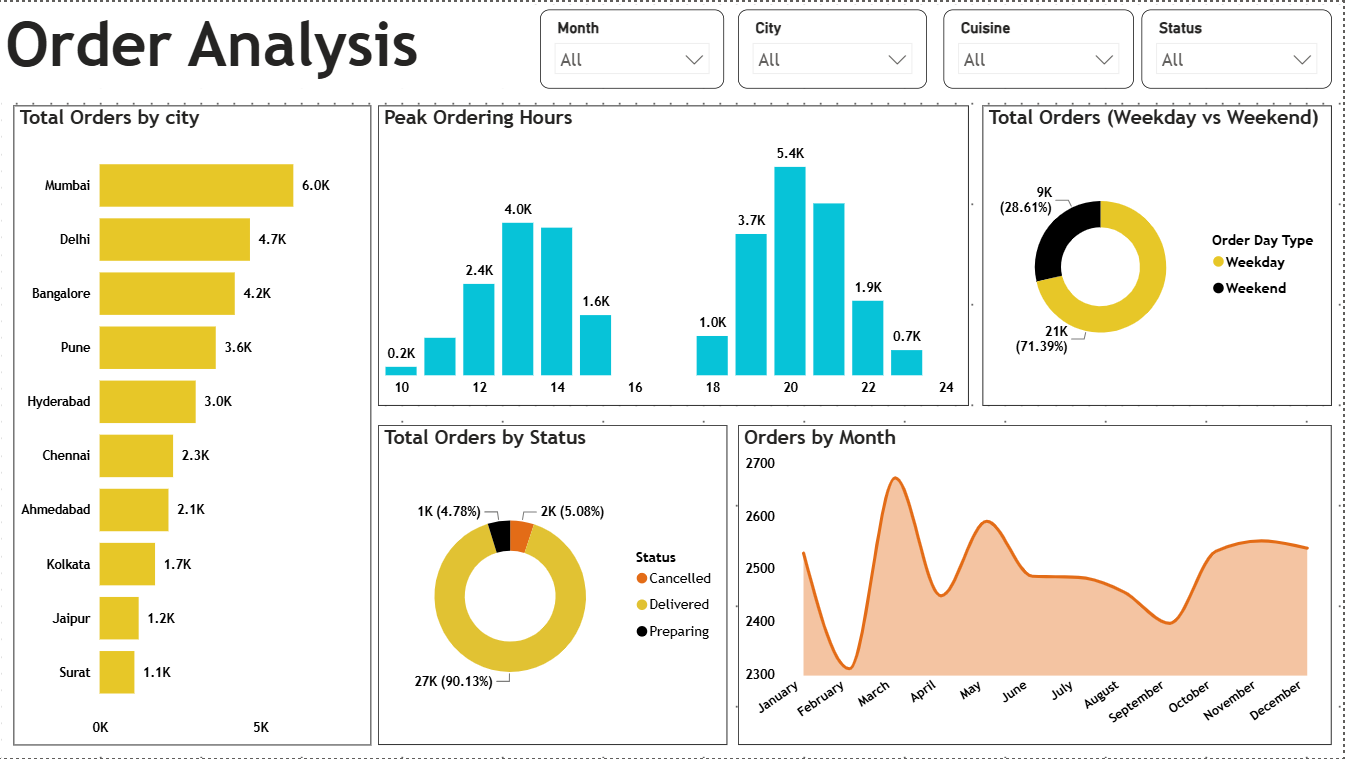

The dashboard page shown, as its layout file describes it:
{"tool":"powerbi","page":{"name":"Order Analysis","canvas":[1280,720],"ordinal":3},"visuals":[{"type":"clusteredColumnChart","title":"Peak Ordering Hours","fields":{"Category":["orders.Order Hour"],"Y":["Shared Measures.Total Orders"]},"box":[359.4,98.4,562.5,285.9],"z":0},{"type":"lineChart","title":"Orders by Month","fields":{"Category":["orders.order_time.Variation.Date Hierarchy.Month"],"Y":["Shared Measures.Total Orders"]},"box":[703.1,403.1,565.6,304.7],"z":1000},{"type":"barChart","fields":{"Category":["restaurants.city"],"Y":["Shared Measures.Total Orders"]},"box":[12.5,98.4,340.6,609.4],"z":2000},{"type":"donutChart","title":"Total Orders (Weekday vs Weekend)","fields":{"Category":["orders.Order Day Type"],"Y":["Shared Measures.Total Orders"]},"box":[935.9,98.4,332.8,285.9],"z":4000},{"type":"slicer","fields":{"Values":["orders.order_time.Variation.Date Hierarchy.Month"]},"box":[514.1,7.8,175,75],"z":5000},{"type":"slicer","fields":{"Values":["customers.city"]},"box":[703.1,7.8,179.7,75],"z":6000},{"type":"slicer","fields":{"Values":["restaurants.cuisine"]},"box":[898.4,7.8,181.2,75],"z":7000},{"type":"slicer","fields":{"Values":["orders.status"]},"box":[1087.5,7.8,181.2,75],"z":8000},{"type":"textbox","box":[0,0,496.9,82.8],"z":9000},{"type":"donutChart","title":"Total Orders by Status","fields":{"Y":["Shared Measures.Total Orders"],"Series":["orders.status"]},"box":[359.4,403.1,332.8,304.7],"z":9001}]}

Visuals, with their boxes in screenshot pixels (x1, y1, x2, y2), scaled from the page's 1280x720 canvas onto the 1345x759 screenshot:
"Peak Ordering Hours" clusteredColumnChart: x1=378 y1=104 x2=969 y2=405
"Orders by Month" lineChart: x1=739 y1=425 x2=1333 y2=746
barChart - restaurants.city x Shared Measures.Total Orders: x1=13 y1=104 x2=371 y2=746
"Total Orders (Weekday vs Weekend)" donutChart: x1=983 y1=104 x2=1333 y2=405
slicer - orders.order_time.Variation.Date Hierarchy.Month: x1=540 y1=8 x2=724 y2=87
slicer - customers.city: x1=739 y1=8 x2=928 y2=87
slicer - restaurants.cuisine: x1=944 y1=8 x2=1134 y2=87
slicer - orders.status: x1=1143 y1=8 x2=1333 y2=87
textbox: x1=0 y1=0 x2=522 y2=87
"Total Orders by Status" donutChart: x1=378 y1=425 x2=727 y2=746
